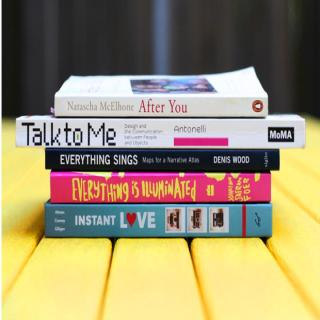book-spine: (54, 67, 268, 117), (16, 114, 305, 149), (44, 200, 273, 237), (50, 171, 271, 203), (45, 148, 279, 171)
